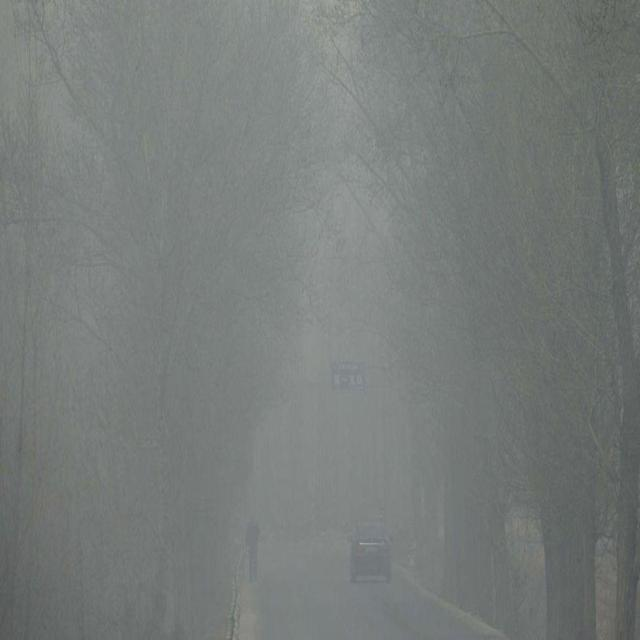Car: (349, 529, 394, 586)
